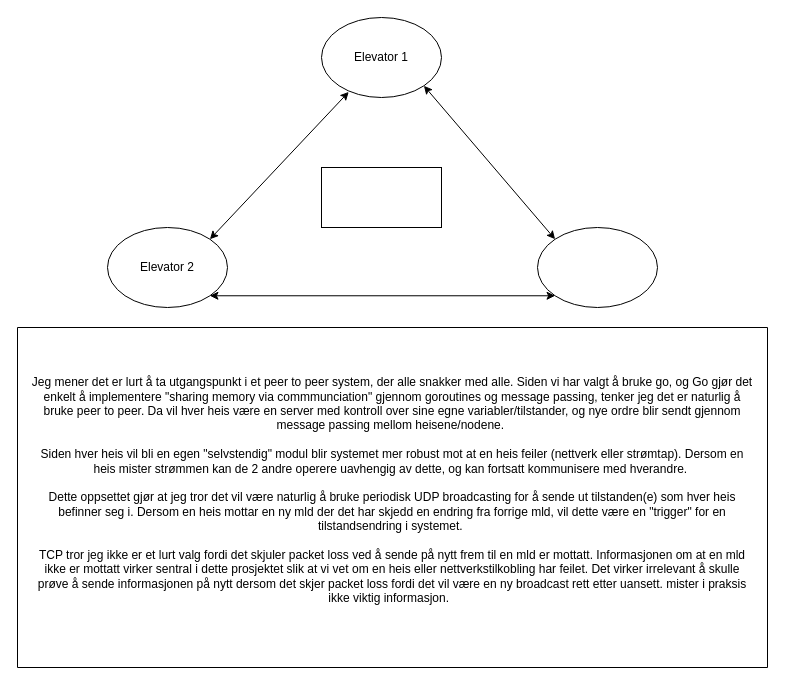
This 785x685 diagram has some shape labels left out. The centre of each missing label's shape, as x and y in pixels:
Elevator 3: pixel 597 267
Peer to peer system: pixel 381 197
